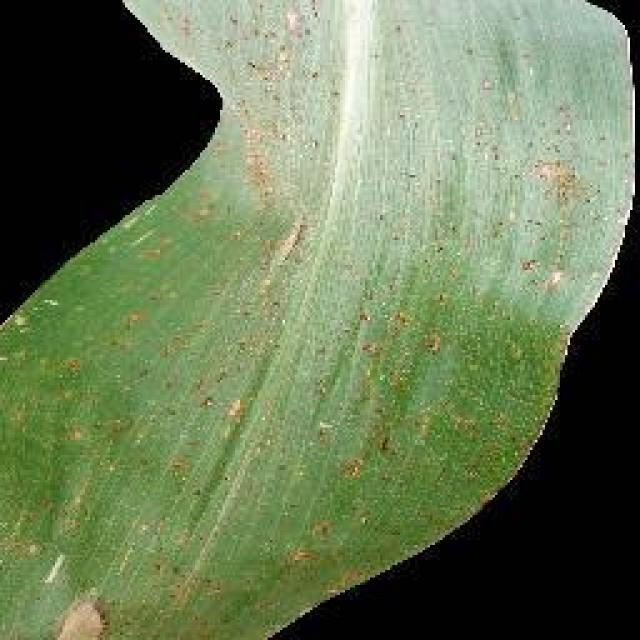Corn Common Rust: (137, 23, 580, 595)
